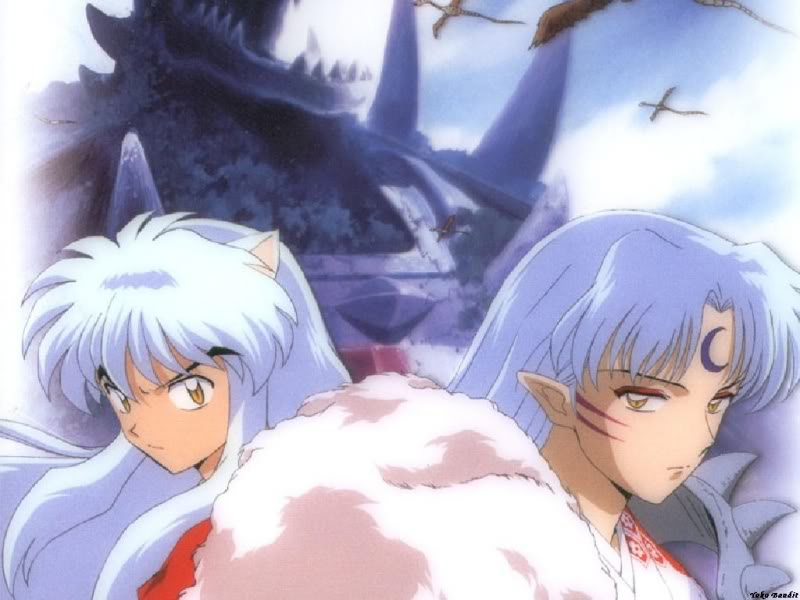sesshomaru: (438, 207, 800, 571)
